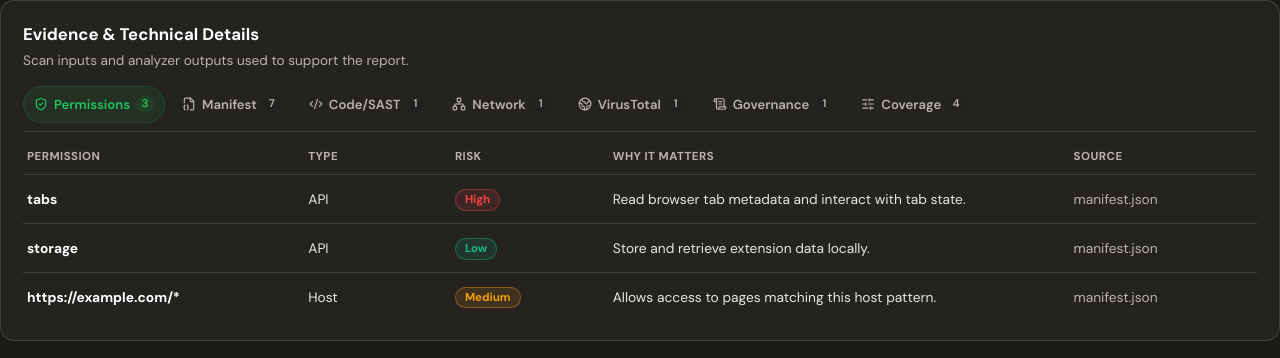
Test: EvidenceTechnicalDetails › renders governance rulepack, rule, reason, and action
The image size is (1280, 358).
Click the tab "Governance 1" at (773, 104), box [702,86,844,123]
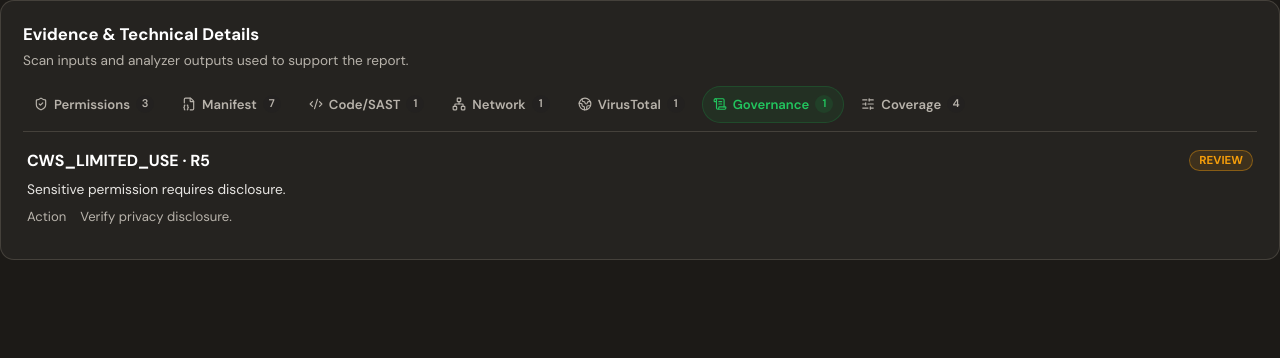
Expected: the text "CWS_LIMITED_USE · R5" is shown, [27,148,210,173]
Expected: the text "Sensitive permission requires disclosure." is shown, [27,180,286,198]
Expected: the text "Verify privacy disclosure." is shown, [80,206,232,227]
